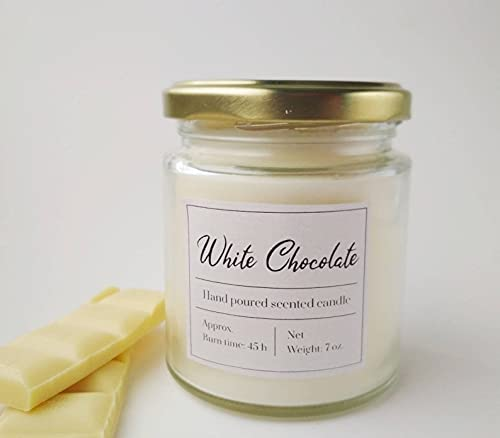poured: (231, 298, 267, 307)
scented: (271, 298, 314, 309)
